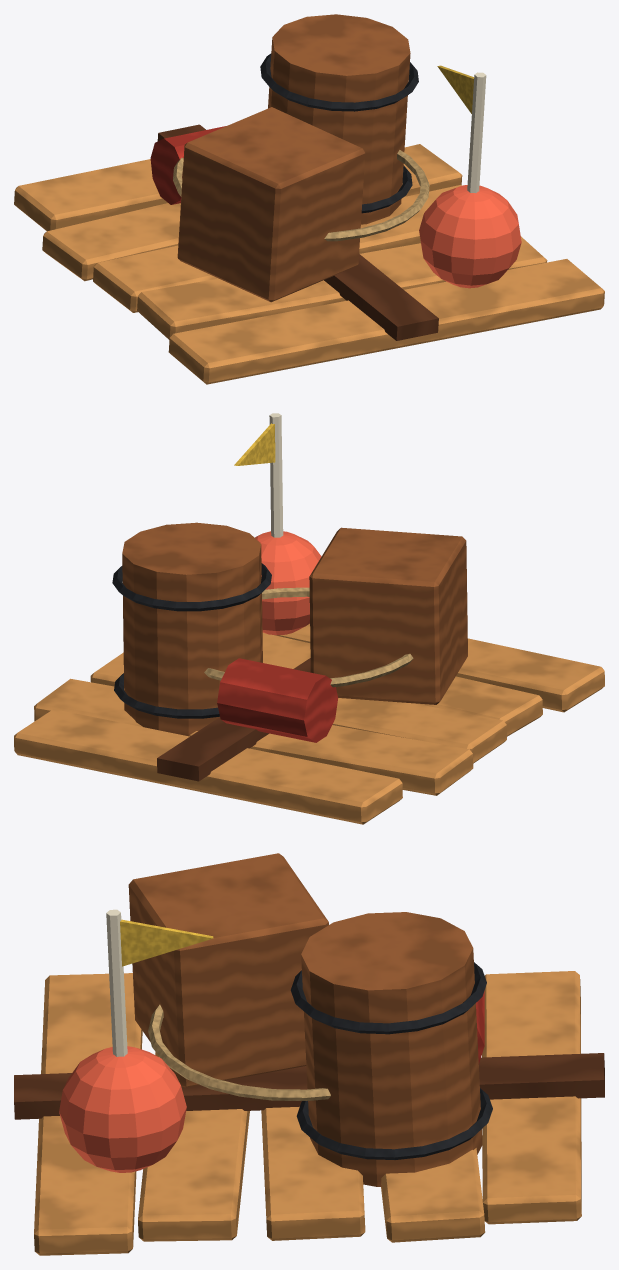
The model's file is floating_salvage.fbx.
3 renders of one model, top to bottom at view 1: azimuth 30°, elevation 25°; view 2: azimuth 150°, elevation 25°; view 3: azimuth 270°, elevation 25°, orthographic. The views are drawn at different scales.
Visible parts, largest first — view 1: floating_salvage_mesh; view 2: floating_salvage_mesh; view 3: floating_salvage_mesh.
Boxes of the visible parts, x1,y1,x2,y2 form: floating_salvage_mesh: (14,14,604,384); floating_salvage_mesh: (14,413,604,824); floating_salvage_mesh: (14,853,604,1255).
Bounding box in the file's own units: 230 × 130 × 240.
Materials: 1 (1 with a texture image).
